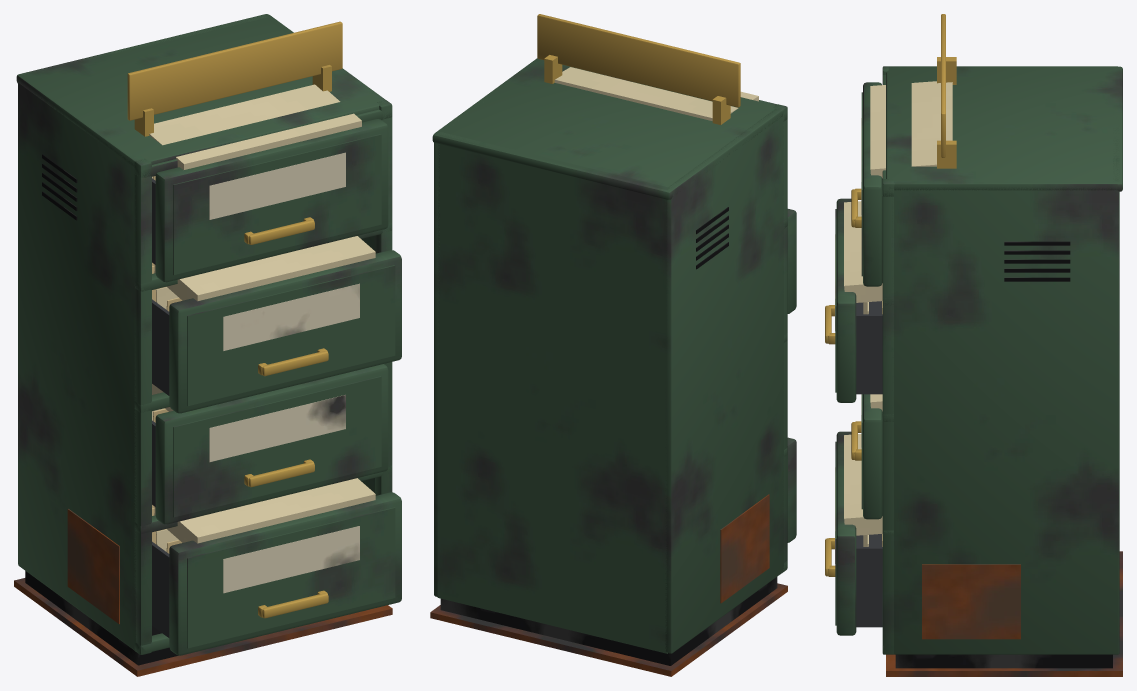
The model's file is file_cabinet.glb.
3 renders of one model, left to right at view 1: azimuth 30°, elevation 25°; view 2: azimuth 150°, elevation 25°; view 3: azimuth 270°, elevation 25°, orthographic. The views are drawn at different scales.
Parts seen in each view (by area): view 1: cabinetBody, drawerBody0, drawerBody3, drawerBody1, drawerBody2; view 2: cabinetBody, drawerBody0, drawerBody1, drawerBody3; view 3: cabinetBody, drawerBody0, drawerBody3, drawerBody1, drawerBody2.
Boxes of the visible parts, bbox=[...] form: cabinetBody: bbox=[14, 14, 392, 676]; drawerBody0: bbox=[149, 84, 388, 282]; drawerBody3: bbox=[152, 478, 401, 655]; drawerBody1: bbox=[152, 236, 401, 413]; drawerBody2: bbox=[152, 364, 388, 524]; cabinetBody: bbox=[430, 14, 787, 676]; drawerBody0: bbox=[554, 67, 776, 120]; drawerBody1: bbox=[787, 209, 796, 313]; drawerBody3: bbox=[787, 437, 796, 542]; cabinetBody: bbox=[882, 14, 1122, 676]; drawerBody0: bbox=[851, 81, 952, 286]; drawerBody3: bbox=[825, 431, 882, 635]; drawerBody1: bbox=[825, 198, 882, 402]; drawerBody2: bbox=[851, 394, 882, 519].
Bounding box in the file's own units: 0.86 × 1.85 × 0.905.
Materials: 10 (7 with a texture image).
